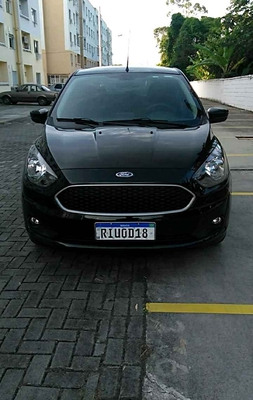Frontal Veiculo: (21, 65, 230, 250)
